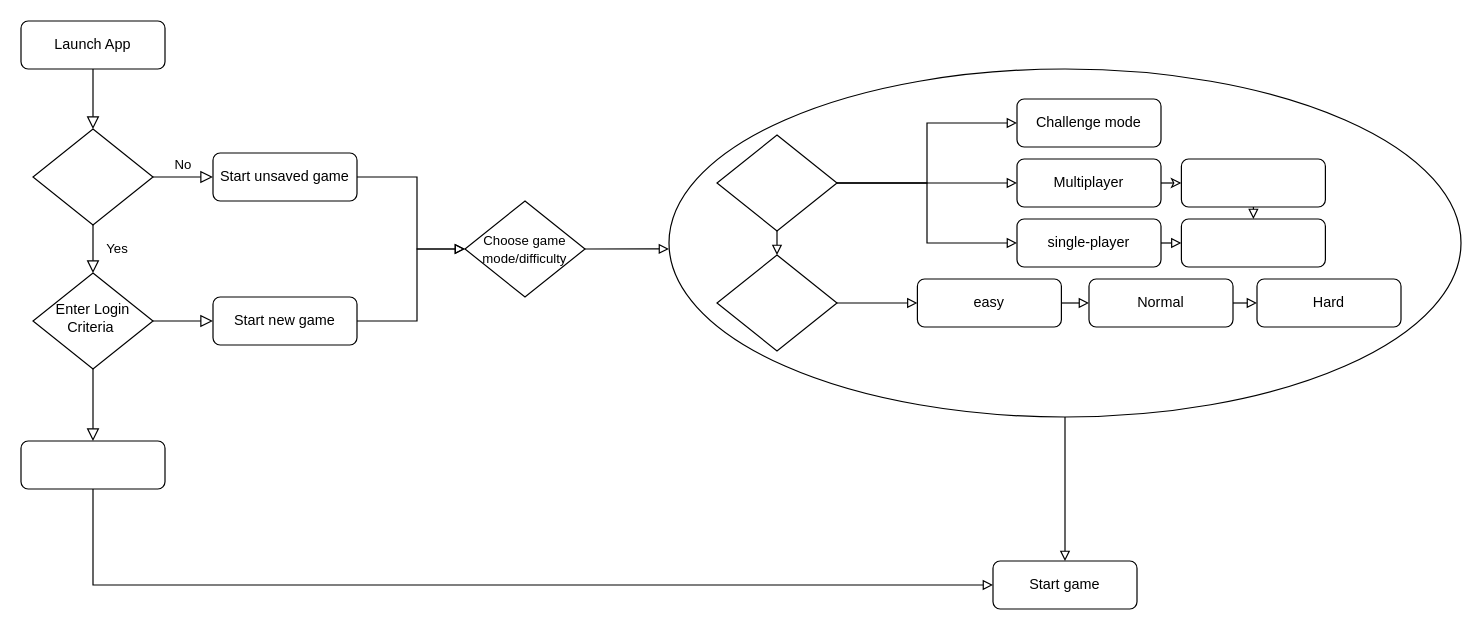
The diagram is 1482 pixels wide and 630 high, and some of its shapes have lost their labels. Here are the shapes that lost their labels. From the top down, the centre of each, then its label:
the point at 92,176: Login?
the point at 776,182: Game mode
the point at 1252,182: Player amount
the point at 1252,242: Board size
the point at 776,302: Game difficulty
the point at 92,464: Start Saved game
